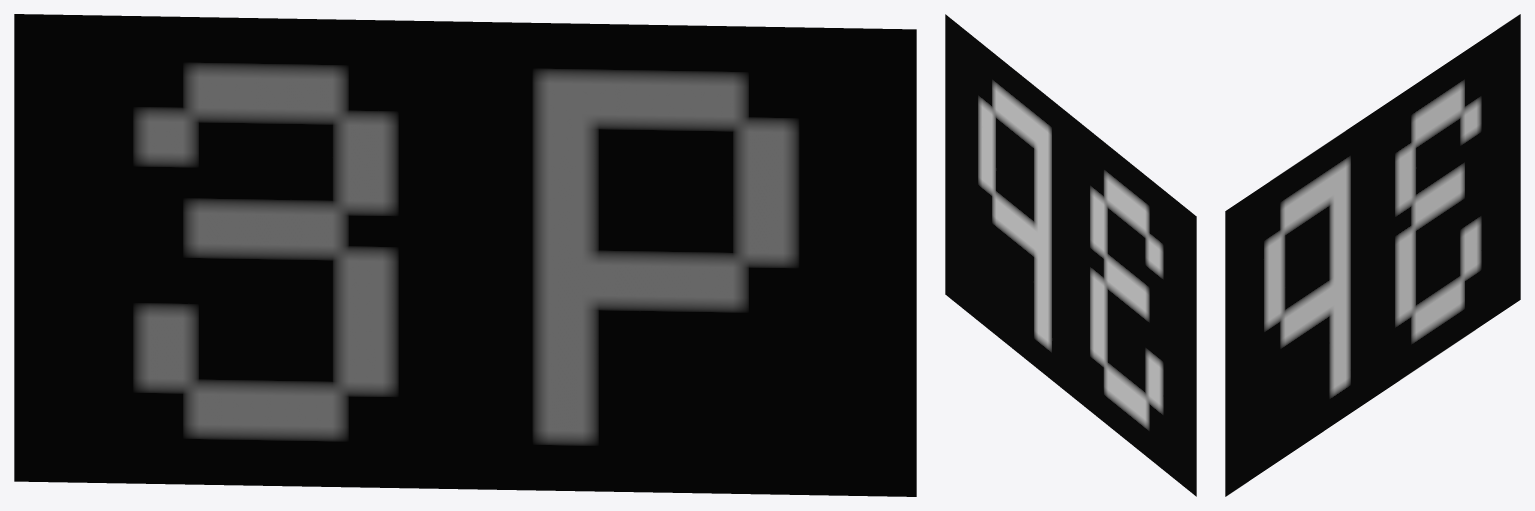
3 views of the same model, side by side, from view 1: azimuth 30°, elevation 25°; view 2: azimuth 150°, elevation 25°; view 3: azimuth 270°, elevation 25° (orthographic). The views are drawn at different scales.
Visible parts, largest first — view 1: Joint_0_Object_0; view 2: Joint_0_Object_0; view 3: Joint_0_Object_0.
Part boxes in pixels (x1,y1,x2,y2): Joint_0_Object_0: (14, 14, 916, 496); Joint_0_Object_0: (945, 14, 1196, 496); Joint_0_Object_0: (1225, 14, 1520, 496).
Bounding box in the file's own units: 47.33 × 32 × 29.94.
1 material, 1 textured.
